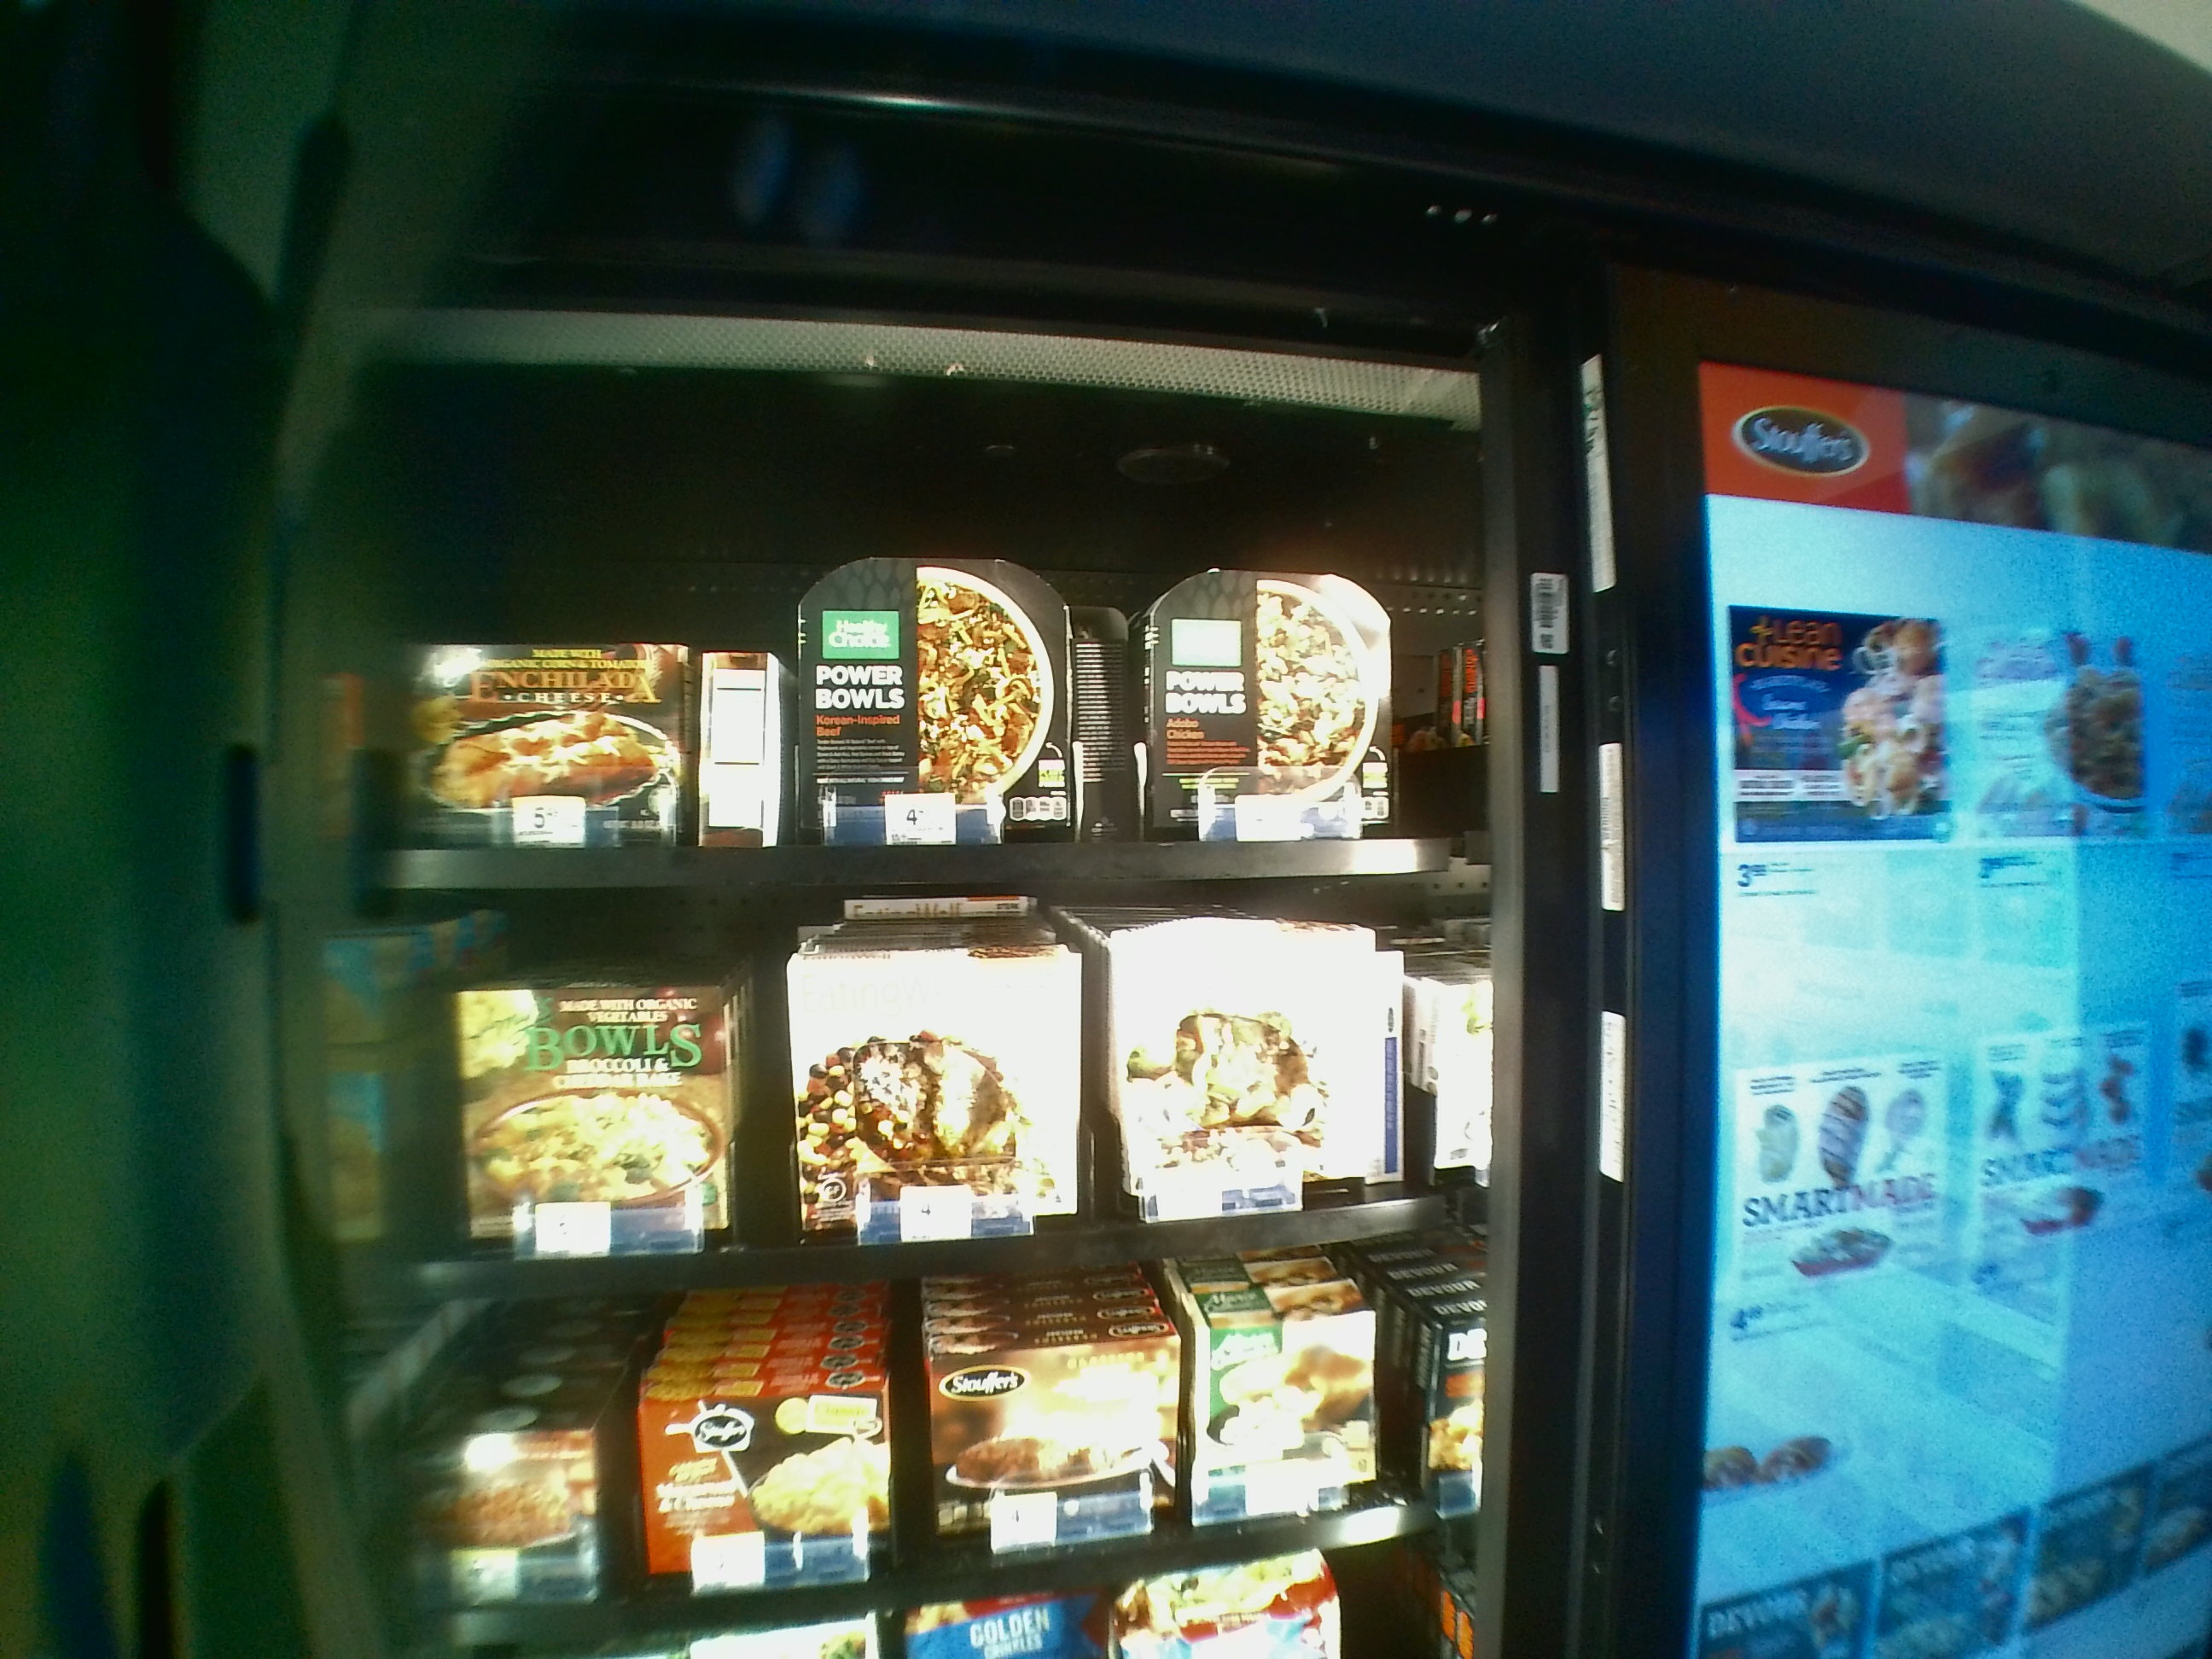shelf: (359, 422, 1479, 878), (364, 892, 1486, 1310)
